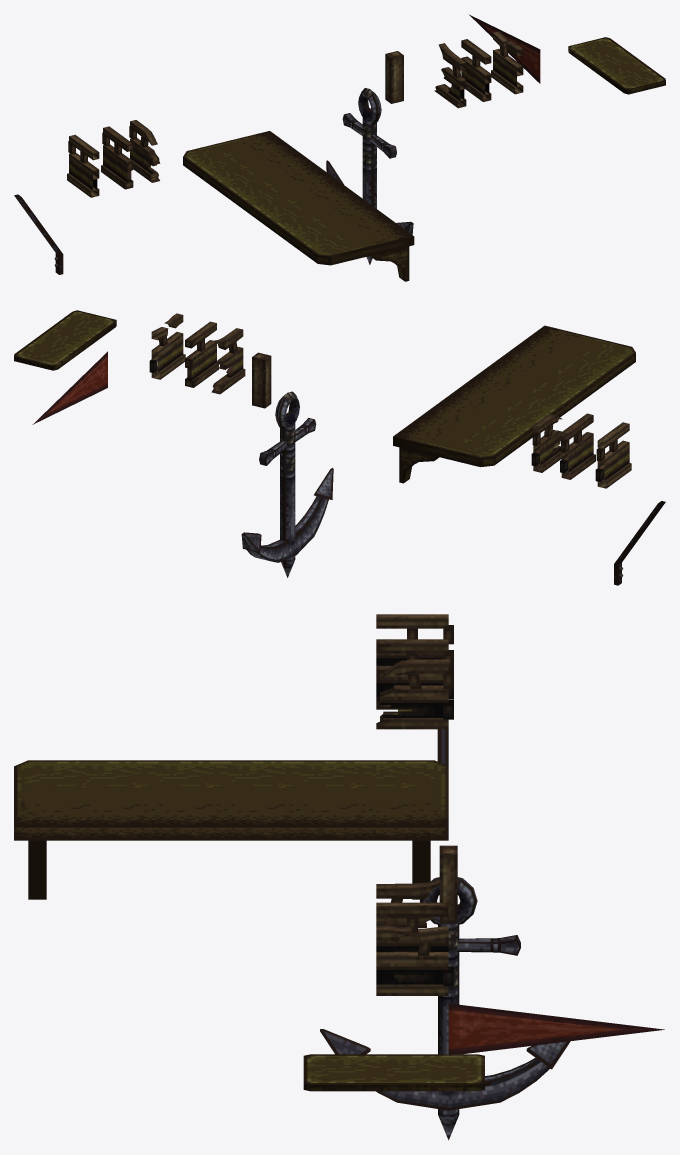
Rendered from EnvMdrMD_Ship_A_Anchor_A.FBX.
3 renders of one model, top to bottom at view 1: azimuth 30°, elevation 25°; view 2: azimuth 150°, elevation 25°; view 3: azimuth 270°, elevation 25°, orthographic. The views are drawn at different scales.
Parts seen in each view (by area): view 1: EnvMdrMD_Ship_A_Board_A, EnvMdrMD_Ship_A_Board_B, EnvMdrMD_Ship_A_Anchor_A, EnvMdrMD_Ship_A_Fence_A_End_A, EnvMdrMD_Ship_A_Fence_A_Loop_A, EnvMdrMD_Ship_A_Fence_A_Loop_A_Broken_A, EnvMdrMD_Ship_A_Fence_A_Start_A, EnvMdrMD_Ship_A_Fence_A_End_A_Broken_A, EnvMdrMD_Ship_A_Fence_A_Start_A_Broken_A, EnvMdrMD_Ship_A_Flag_A, EnvMdrMD_Ship_A_Fence_A_Post_A, EnvMdrMD_Ship_A_BoardParts_A; view 2: EnvMdrMD_Ship_A_Board_A, EnvMdrMD_Ship_A_Anchor_A, EnvMdrMD_Ship_A_Board_B, EnvMdrMD_Ship_A_Fence_A_Loop_A, EnvMdrMD_Ship_A_Fence_A_End_A, EnvMdrMD_Ship_A_Fence_A_Loop_A_Broken_A, EnvMdrMD_Ship_A_Fence_A_Start_A, EnvMdrMD_Ship_A_Flag_A, EnvMdrMD_Ship_A_Fence_A_End_A_Broken_A, EnvMdrMD_Ship_A_Fence_A_Start_A_Broken_A, EnvMdrMD_Ship_A_Fence_A_Post_A, EnvMdrMD_Ship_A_BoardParts_A; view 3: EnvMdrMD_Ship_A_Board_A, EnvMdrMD_Ship_A_Anchor_A, EnvMdrMD_Ship_A_Board_B, EnvMdrMD_Ship_A_Flag_A, EnvMdrMD_Ship_A_Fence_A_Loop_A_Broken_A, EnvMdrMD_Ship_A_Fence_A_End_A_Broken_A, EnvMdrMD_Ship_A_Fence_A_End_A, EnvMdrMD_Ship_A_Fence_A_Start_A, EnvMdrMD_Ship_A_Fence_A_Loop_A, EnvMdrMD_Ship_A_Fence_A_Start_A_Broken_A, EnvMdrMD_Ship_A_Fence_A_Post_A.
Boxes of the visible parts, x1,y1,x2,y2 form: EnvMdrMD_Ship_A_Board_A: (183, 131, 414, 281); EnvMdrMD_Ship_A_Board_B: (568, 37, 665, 94); EnvMdrMD_Ship_A_Anchor_A: (326, 88, 413, 264); EnvMdrMD_Ship_A_Fence_A_End_A: (101, 126, 133, 189); EnvMdrMD_Ship_A_Fence_A_Loop_A: (67, 134, 99, 197); EnvMdrMD_Ship_A_Fence_A_Loop_A_Broken_A: (491, 31, 523, 94); EnvMdrMD_Ship_A_Fence_A_Start_A: (461, 39, 491, 101); EnvMdrMD_Ship_A_Fence_A_End_A_Broken_A: (129, 120, 160, 182); EnvMdrMD_Ship_A_Fence_A_Start_A_Broken_A: (434, 43, 466, 108); EnvMdrMD_Ship_A_Flag_A: (469, 14, 540, 83); EnvMdrMD_Ship_A_Fence_A_Post_A: (385, 51, 403, 103); EnvMdrMD_Ship_A_BoardParts_A: (14, 194, 63, 274); EnvMdrMD_Ship_A_Board_A: (393, 325, 635, 483); EnvMdrMD_Ship_A_Anchor_A: (241, 391, 333, 577); EnvMdrMD_Ship_A_Board_B: (14, 310, 116, 370); EnvMdrMD_Ship_A_Fence_A_Loop_A: (595, 422, 631, 488); EnvMdrMD_Ship_A_Fence_A_End_A: (560, 413, 595, 479); EnvMdrMD_Ship_A_Fence_A_Loop_A_Broken_A: (149, 313, 185, 379); EnvMdrMD_Ship_A_Fence_A_Start_A: (185, 321, 218, 387); EnvMdrMD_Ship_A_Flag_A: (32, 351, 107, 424); EnvMdrMD_Ship_A_Fence_A_End_A_Broken_A: (531, 414, 562, 472); EnvMdrMD_Ship_A_Fence_A_Start_A_Broken_A: (211, 328, 245, 394); EnvMdrMD_Ship_A_Fence_A_Post_A: (252, 352, 271, 408); EnvMdrMD_Ship_A_BoardParts_A: (614, 501, 665, 585); EnvMdrMD_Ship_A_Board_A: (14, 760, 448, 899); EnvMdrMD_Ship_A_Anchor_A: (320, 877, 570, 1140); EnvMdrMD_Ship_A_Board_B: (303, 1054, 484, 1091); EnvMdrMD_Ship_A_Flag_A: (448, 1003, 664, 1054); EnvMdrMD_Ship_A_Fence_A_Loop_A_Broken_A: (376, 925, 453, 995); EnvMdrMD_Ship_A_Fence_A_End_A_Broken_A: (376, 659, 453, 729); EnvMdrMD_Ship_A_Fence_A_End_A: (376, 639, 453, 709); EnvMdrMD_Ship_A_Fence_A_Start_A: (376, 902, 448, 951); EnvMdrMD_Ship_A_Fence_A_Loop_A: (376, 614, 453, 669); EnvMdrMD_Ship_A_Fence_A_Start_A_Broken_A: (376, 878, 441, 927); EnvMdrMD_Ship_A_Fence_A_Post_A: (439, 845, 457, 923).
Bounding box in the file's own units: 1455 × 474 × 900.
1 material, 1 textured.
